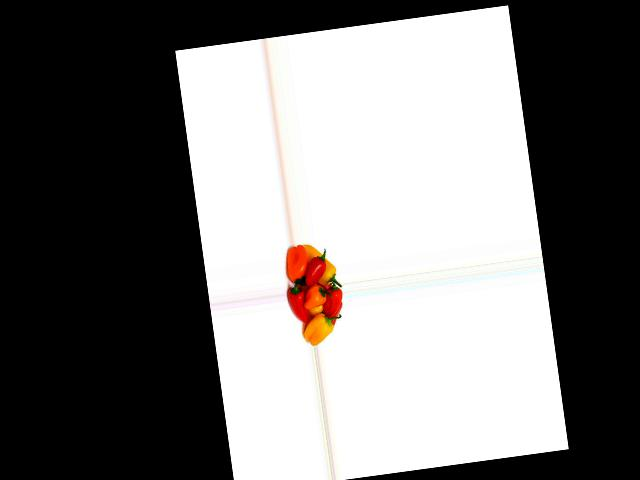bell_pepper: (304, 241, 340, 287)
